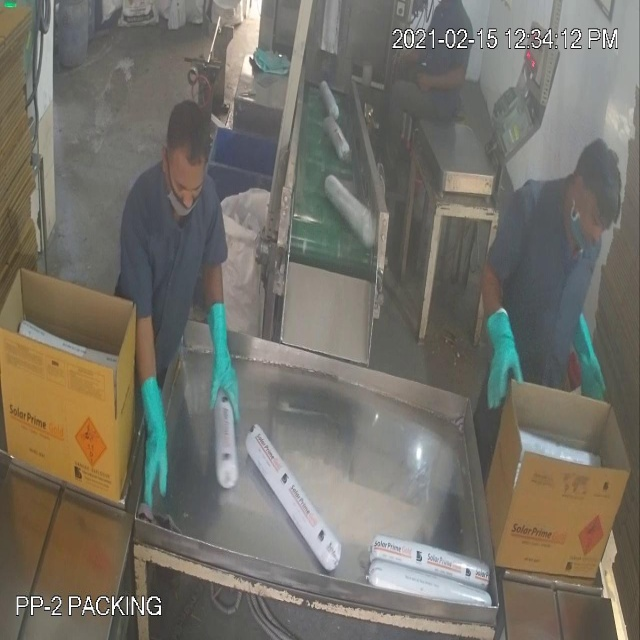Guantes: (202, 292, 247, 453), (476, 284, 526, 419), (133, 363, 177, 514)
Sin_guantes: (408, 51, 473, 107)
